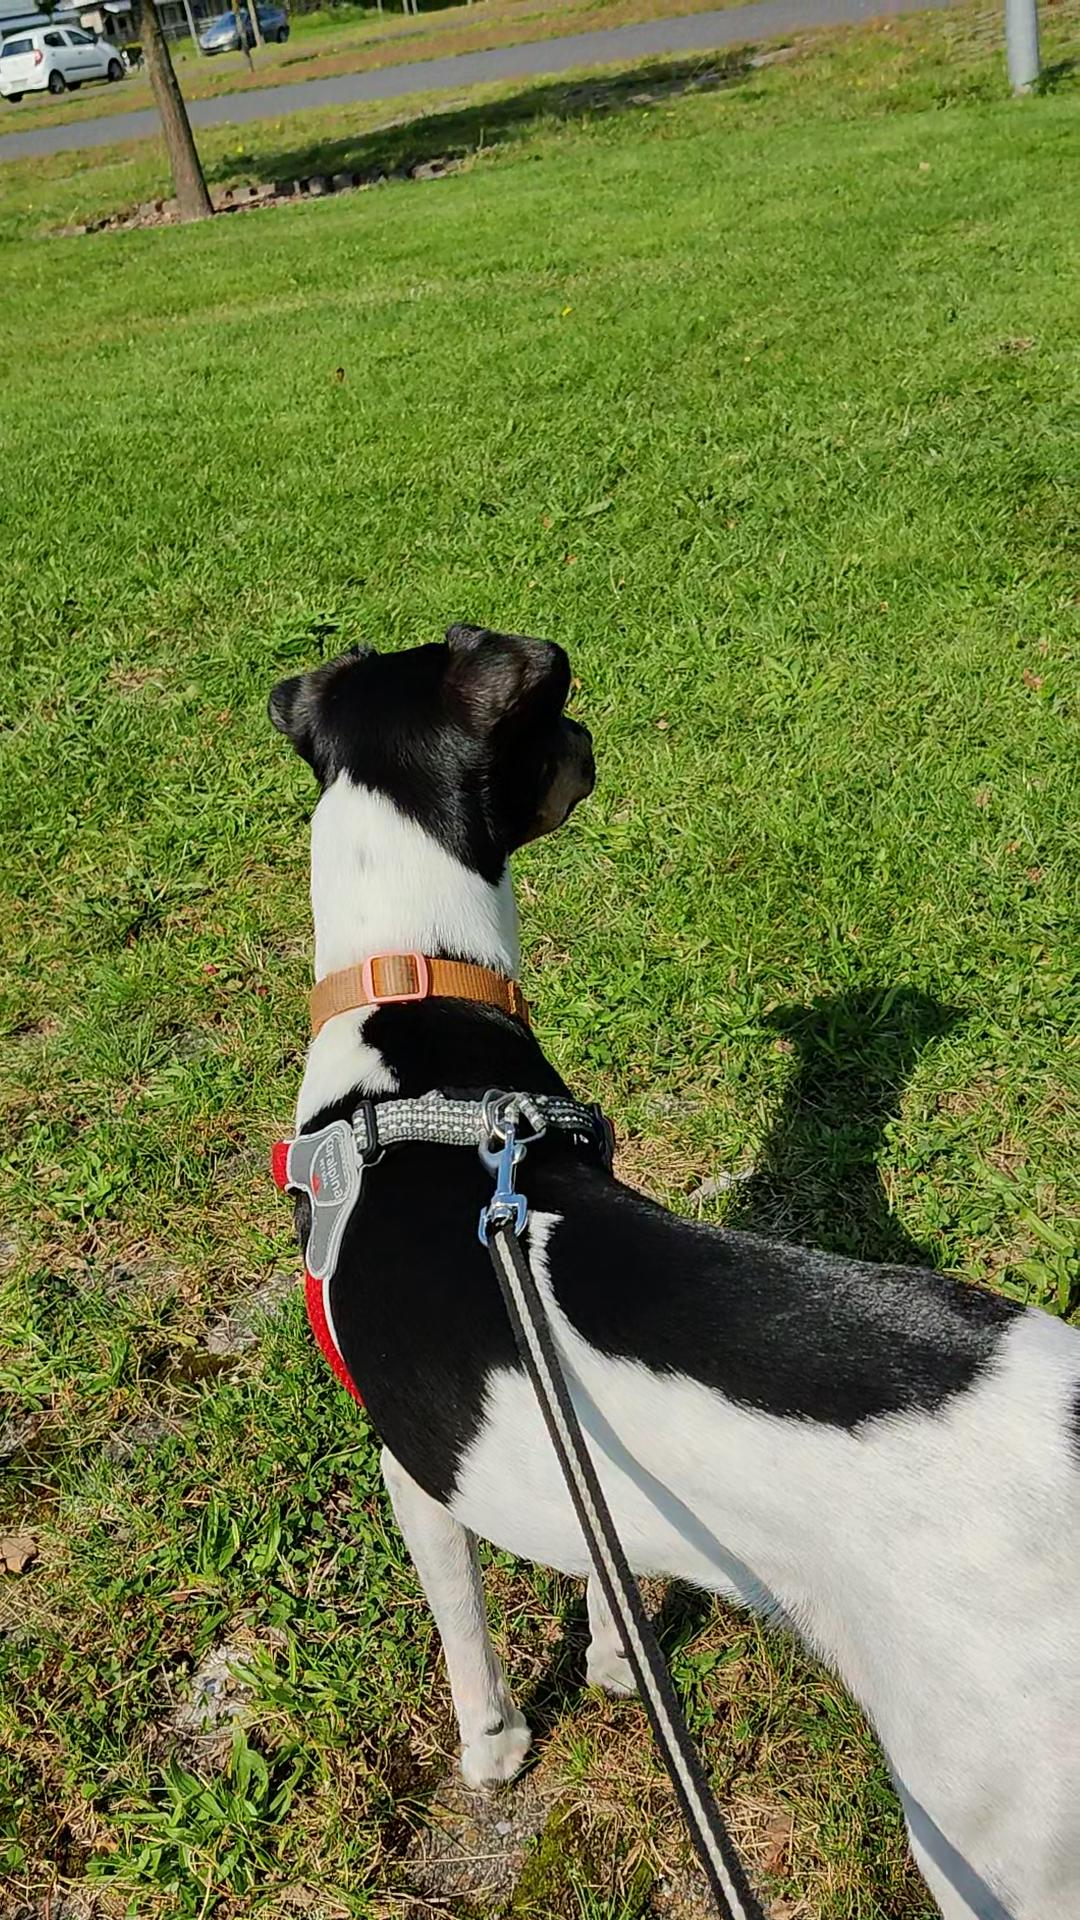Dog: (233, 609, 1079, 1919)
